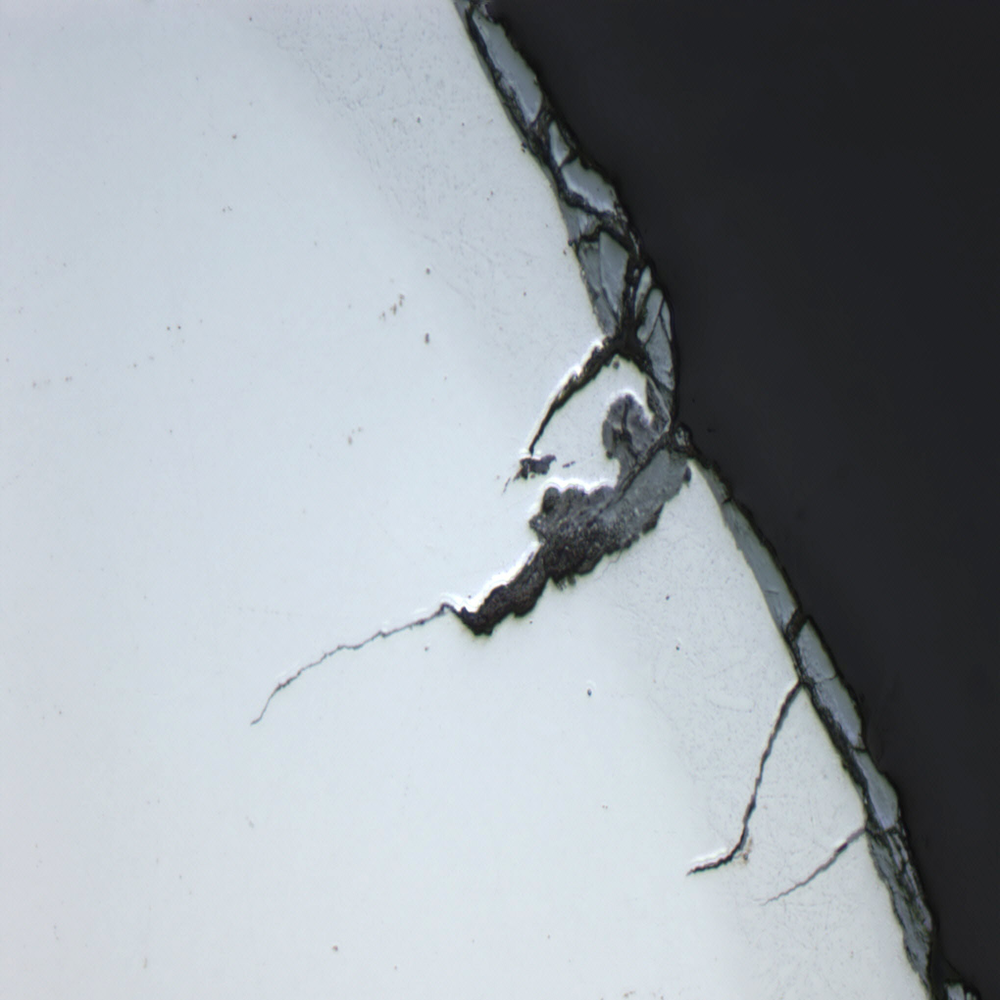crack: (240, 329, 708, 767), (686, 641, 823, 909), (762, 805, 887, 927)
